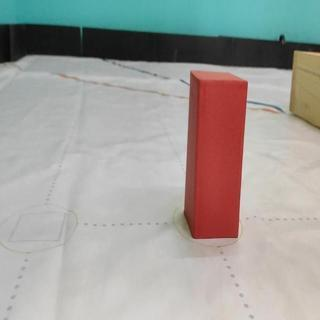redbox: (186, 71, 248, 239)
